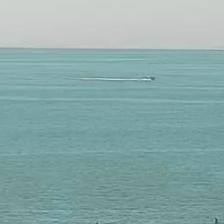surfer: (213, 218, 218, 223), (94, 221, 100, 223)
